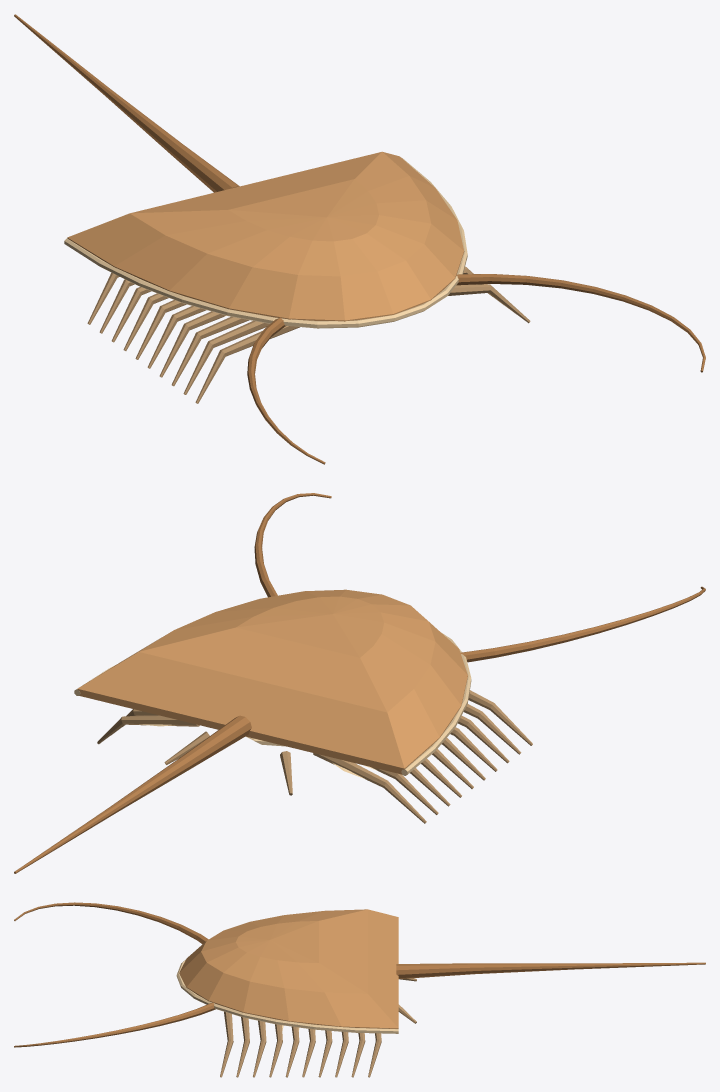
Rendered from burgessia.glb.
3 views of the same model, one above another, from view 1: azimuth 30°, elevation 25°; view 2: azimuth 150°, elevation 25°; view 3: azimuth 270°, elevation 25° (orthographic). The views are drawn at different scales.
Parts seen in each view (by area): view 1: single-eyeless-carapace, carapace-rim, single-unsegmented-tail-spine, right-antenna, left-antenna, left-walking-01, left-walking-00, left-walking-02, right-walking-00, left-walking-03; view 2: single-eyeless-carapace, single-unsegmented-tail-spine, left-antenna, right-antenna, carapace-rim, left-walking-09, right-walking-09, left-walking-00; view 3: single-eyeless-carapace, single-unsegmented-tail-spine, carapace-rim, right-antenna, left-antenna, right-walking-00, right-walking-01, right-walking-02, right-walking-03.
Boxes of the visible parts, x1,y1,x2,y2 form: single-eyeless-carapace: (67, 151, 464, 321); carapace-rim: (64, 157, 467, 328); single-unsegmented-tail-spine: (14, 14, 239, 192); right-antenna: (456, 274, 705, 372); left-antenna: (247, 317, 325, 464); left-walking-01: (183, 321, 269, 394); left-walking-00: (195, 326, 299, 403); left-walking-02: (171, 316, 249, 386); right-walking-00: (448, 284, 530, 323); left-walking-03: (159, 311, 225, 377); single-eyeless-carapace: (77, 589, 467, 774); single-unsegmented-tail-spine: (14, 715, 251, 873); left-antenna: (460, 586, 705, 662); right-antenna: (254, 493, 331, 597); carapace-rim: (74, 632, 471, 775); left-walking-09: (313, 753, 426, 823); right-walking-09: (97, 715, 199, 744); left-walking-00: (468, 690, 532, 745); single-eyeless-carapace: (179, 909, 398, 1028); single-unsegmented-tail-spine: (396, 962, 705, 978); carapace-rim: (176, 959, 398, 1033); right-antenna: (14, 1002, 215, 1047); left-antenna: (14, 902, 208, 944); right-walking-00: (220, 1011, 233, 1077); right-walking-01: (236, 1017, 249, 1077); right-walking-02: (253, 1020, 266, 1077); right-walking-03: (269, 1024, 282, 1077).
Bounding box in the file's own units: 0.021 × 0.00579 × 0.0441.
